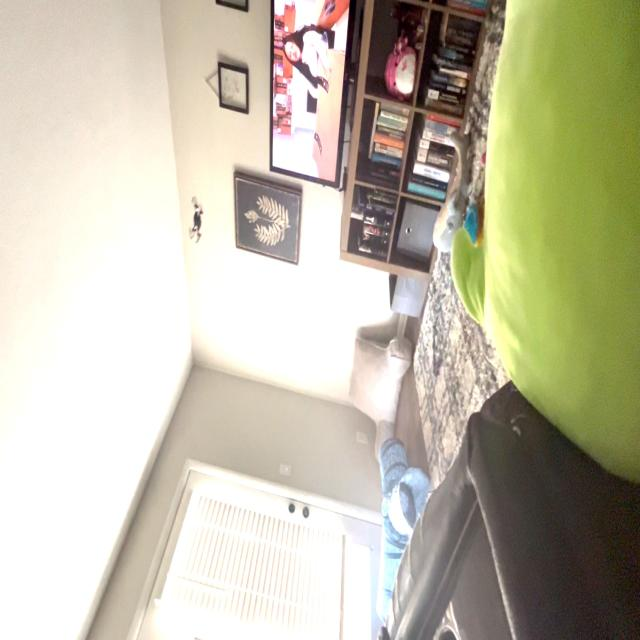drone: (181, 188, 211, 252)
